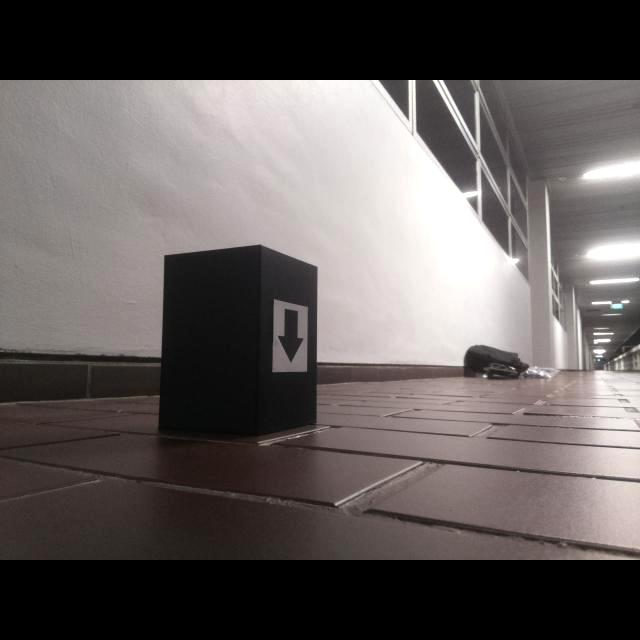DOWN: (276, 308, 305, 365)
